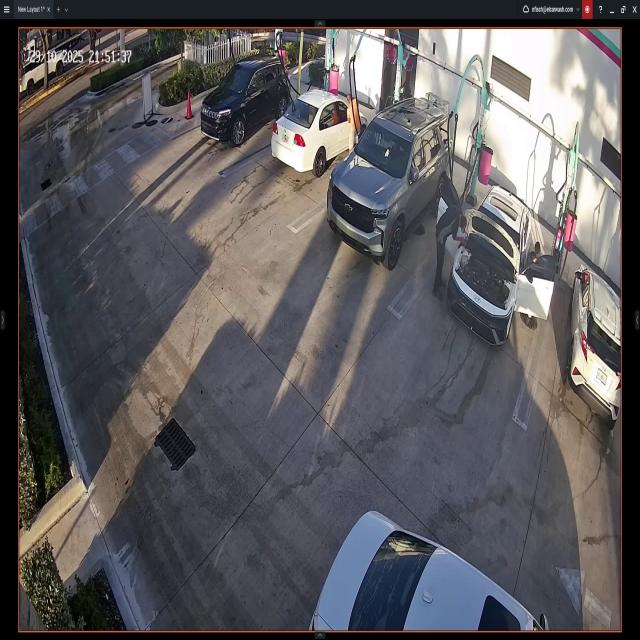Car: (308, 510, 550, 634), (329, 101, 452, 270), (441, 180, 553, 343), (200, 54, 290, 147), (570, 264, 622, 422), (272, 88, 367, 174)
